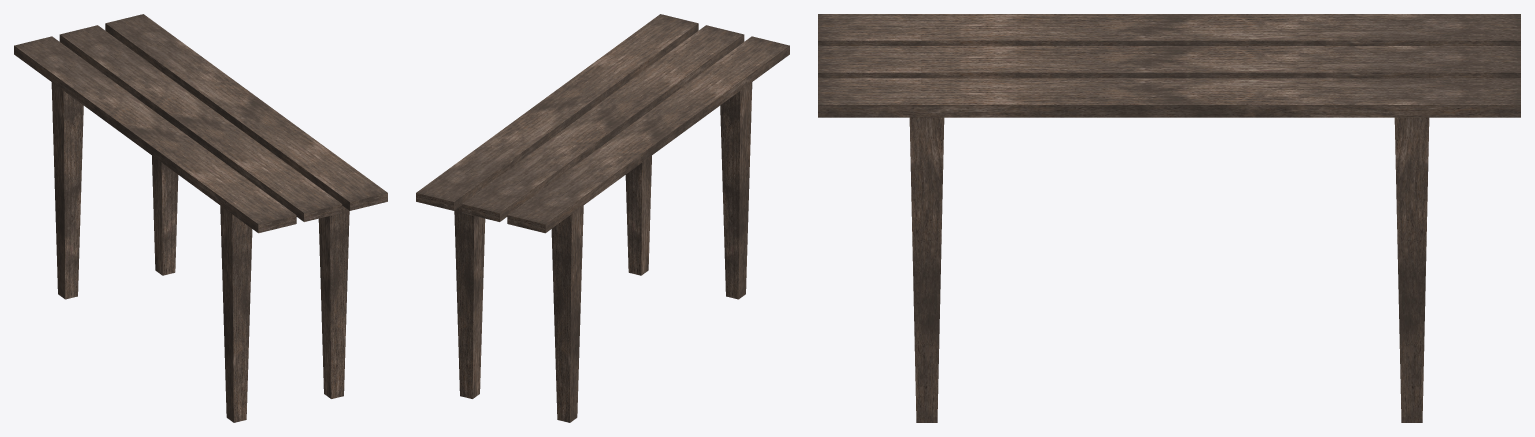
The model's file is bench.glb.
3 renders of one model, left to right at view 1: azimuth 30°, elevation 25°; view 2: azimuth 150°, elevation 25°; view 3: azimuth 270°, elevation 25°, orthographic. The views are drawn at different scales.
Visible parts, largest first — view 1: Cube.002_1, Cube.001_0; view 2: Cube.002_1, Cube.001_0; view 3: Cube.002_1, Cube.001_0.
Boxes of the visible parts, bbox=[...] form: Cube.002_1: bbox=[14, 14, 387, 233]; Cube.001_0: bbox=[51, 82, 349, 422]; Cube.002_1: bbox=[416, 14, 789, 233]; Cube.001_0: bbox=[454, 82, 752, 422]; Cube.002_1: bbox=[818, 14, 1520, 117]; Cube.001_0: bbox=[909, 117, 1429, 422].
Bounding box in the file's own units: 0.306 × 0.51 × 1.
1 material, 1 textured.
